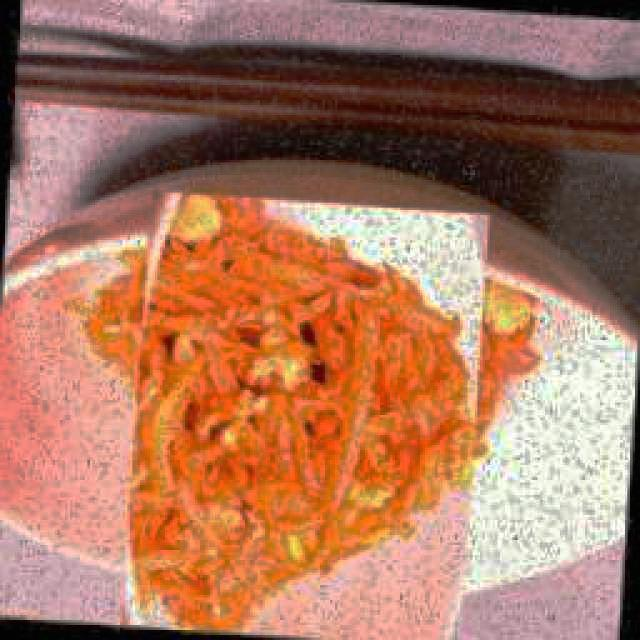carrot_eggs: (61, 192, 536, 624)
